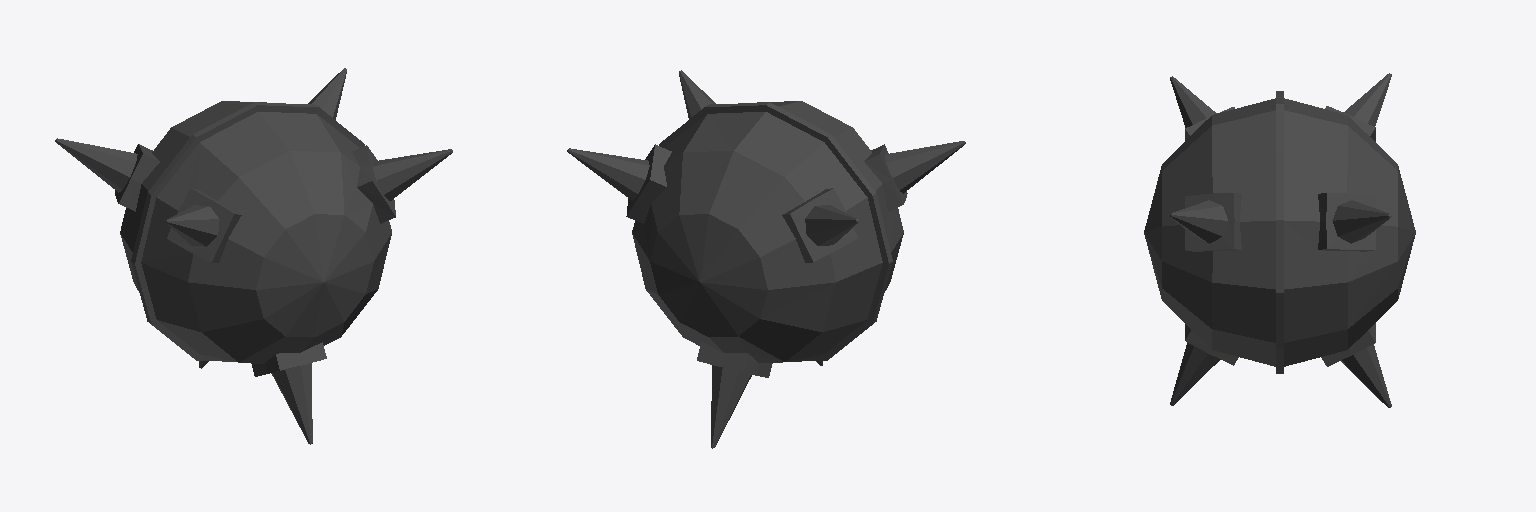
Rendered from Bomb.obj.
3 views of the same model, side by side, from view 1: azimuth 30°, elevation 25°; view 2: azimuth 150°, elevation 25°; view 3: azimuth 270°, elevation 25° (orthographic).
Parts seen in each view (by area): view 1: Sphere003; view 2: Sphere003; view 3: Sphere003.
Part boxes in pixels (x1,y1,x2,y2): Sphere003: (55,68,452,444); Sphere003: (567,70,965,448); Sphere003: (1144,73,1415,407).
Size of the model in its own units: 4.95 by 4.94 by 4.